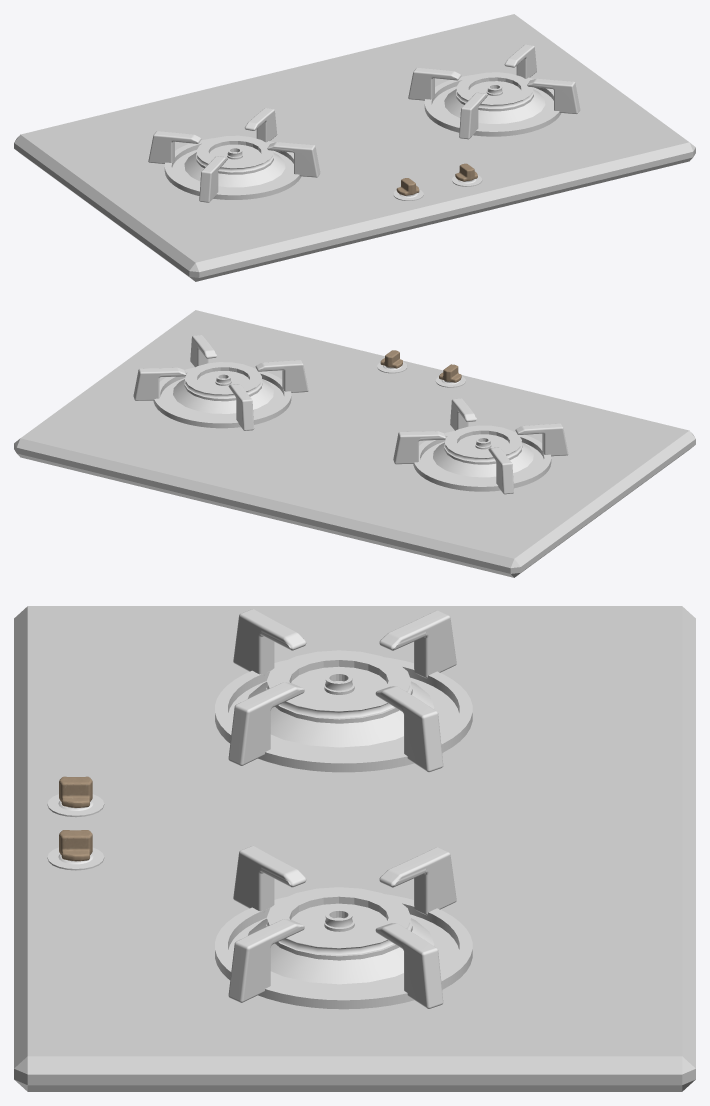
The model's file is Gas_Stove.fbx.
The picture shows the model from 3 angles, top to bottom: view 1: azimuth 30°, elevation 25°; view 2: azimuth 150°, elevation 25°; view 3: azimuth 270°, elevation 25°; orthographic projection. The views are drawn at different scales.
Visible parts, largest first — view 1: pasted__pCube8, pCylinder2, pCylinder8, pCylinder12, pCylinder4, pCylinder5, pCylinder10, pCube7, pCube2, pCube3, pCube9, pCube1 (+3 smaller); view 2: pasted__pCube8, pCylinder2, pCylinder8, pCylinder12, pCylinder4, pCylinder10, pCylinder5, pCube10, pCube4, pCube1, pCube8, pCube3 (+3 smaller); view 3: pasted__pCube8, pCylinder8, pCylinder2, pCylinder12, pCylinder4, pCylinder10, pCylinder5, pCube2, pCube7, pCube3, pCube9, pCube10 (+5 smaller).
Part boxes in pixels (x1,y1,x2,y2): pasted__pCube8: (14, 14, 695, 281); pCylinder2: (424, 75, 561, 136); pCylinder8: (164, 138, 301, 199); pCylinder12: (184, 144, 285, 187); pCylinder4: (444, 81, 545, 123); pCylinder5: (456, 72, 533, 108); pCylinder10: (196, 135, 273, 171); pCube7: (267, 142, 320, 177); pCube2: (527, 78, 580, 114); pCube3: (408, 67, 461, 100); pCube9: (148, 131, 201, 163); pCube1: (459, 92, 487, 139); pasted__pCube8: (14, 310, 695, 577); pCylinder2: (153, 367, 291, 428); pCylinder8: (413, 431, 551, 491); pCylinder12: (433, 434, 533, 477); pCylinder4: (173, 371, 273, 413); pCylinder10: (445, 425, 521, 461); pCylinder5: (185, 362, 261, 398); pCube10: (133, 367, 186, 400); pCube4: (393, 431, 445, 464); pCube1: (255, 360, 308, 392); pCube8: (515, 423, 568, 456); pCube3: (228, 384, 254, 430); pasted__pCube8: (14, 606, 695, 1091); pCylinder8: (215, 657, 472, 772); pCylinder2: (215, 894, 472, 1009); pCylinder12: (248, 666, 434, 747); pCylinder4: (248, 903, 434, 984); pCylinder10: (266, 650, 411, 718); pCylinder5: (266, 887, 411, 954); pCube2: (228, 919, 304, 1002); pCube7: (228, 682, 304, 765); pCube3: (379, 847, 456, 915); pCube9: (379, 610, 456, 678); pCube10: (375, 923, 443, 1008).
Bounding box in the file's own units: 2.36 × 0.2242 × 1.47.
